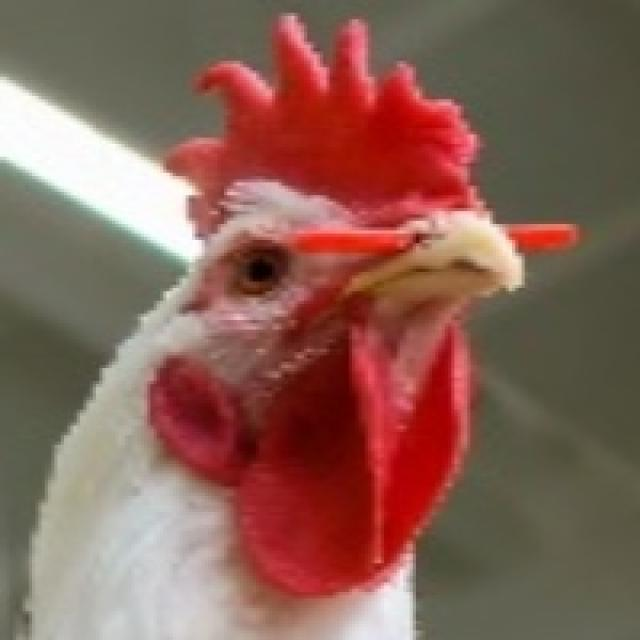Healthy: (25, 9, 579, 640)
